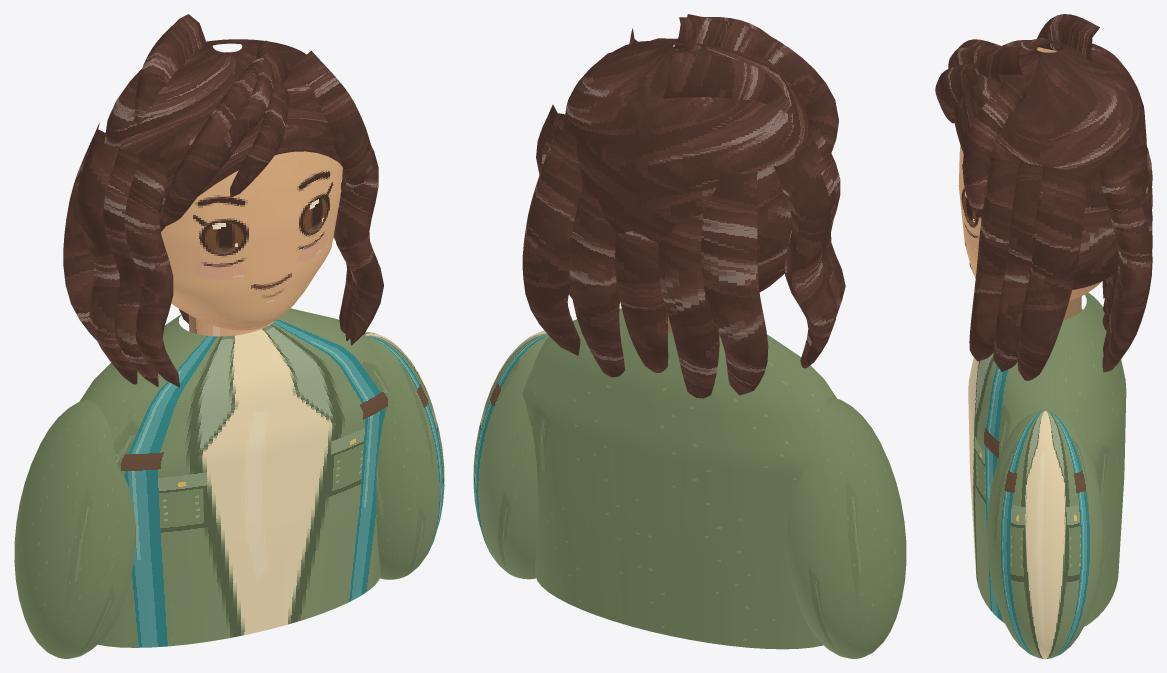
File: prototype-bust.glb
3 renders of one model, left to right at view 1: azimuth 30°, elevation 25°; view 2: azimuth 150°, elevation 25°; view 3: azimuth 270°, elevation 25°, orthographic. The views are drawn at different scales.
Visible parts, largest first — view 1: Torso, UpperArm-1, PaintedFace, PaintedHairCap, UpperArm1, LongSide-1_0, LongSide-1_2, SweptFringeA, LongSide-1_1, LongSide1_0, SweptFringeB, CrownLock (+4 smaller); view 2: Torso, PaintedHairCap, UpperArm-1, UpperArm1, LongBack0, LongBack4, LongSide-1_2, LongBack1, LongBack3, LongBack2, SweptFringeA, CrownLock (+4 smaller); view 3: UpperArm1, PaintedHairCap, Torso, LongSide1_2, LongBack4, LongSide1_0, LongSide1_1, SweptFringeB, CrownLock, PaintedFace, ForeheadLock, PartingRibbon (+3 smaller).
Boxes of the visible parts, x1,y1,x2,y2 form: Torso: (79,308,390,647); UpperArm-1: (14,399,135,658); PaintedFace: (161,51,342,330); PaintedHairCap: (104,39,342,231); UpperArm1: (364,332,444,579); LongSide-1_0: (124,156,179,387); LongSide-1_2: (76,137,137,384); SweptFringeA: (161,47,288,225); LongSide-1_1: (103,146,158,387); LongSide1_0: (334,144,383,345); SweptFringeB: (288,50,372,191); CrownLock: (134,14,205,126); Torso: (522,308,836,649); PaintedHairCap: (563,38,809,291); UpperArm-1: (787,397,906,658); UpperArm1: (473,330,549,579); LongBack0: (701,173,768,395); LongBack4: (522,125,583,355); LongSide-1_2: (773,144,836,368); LongBack1: (658,213,719,398); LongBack3: (569,184,624,377); LongBack2: (615,230,668,372); SweptFringeA: (677,14,838,152); CrownLock: (663,52,793,114); UpperArm1: (987,411,1103,658); PaintedHairCap: (953,38,1147,289); Torso: (968,292,1126,626); LongSide1_2: (1017,166,1087,380); LongBack4: (1100,157,1152,372); LongSide1_0: (969,157,1018,361); LongSide1_1: (993,162,1052,371); SweptFringeB: (963,78,1027,219); CrownLock: (1037,14,1099,62); PaintedFace: (958,47,1101,300); ForeheadLock: (935,62,978,123); PartingRibbon: (950,46,1023,75).
Size of the model in its own units: 23.92 by 32.18 by 11.55.
Materials: 8 (4 with a texture image).
